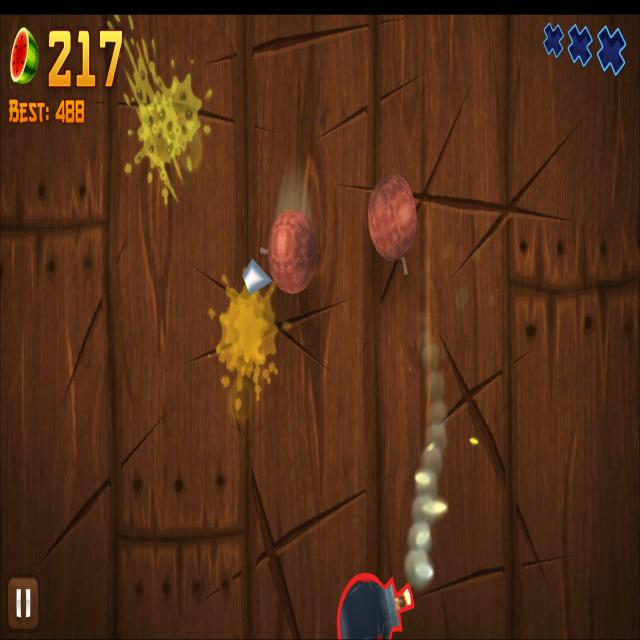bomb: (336, 571, 416, 640)
fruit: (367, 174, 417, 260), (268, 209, 318, 294)
